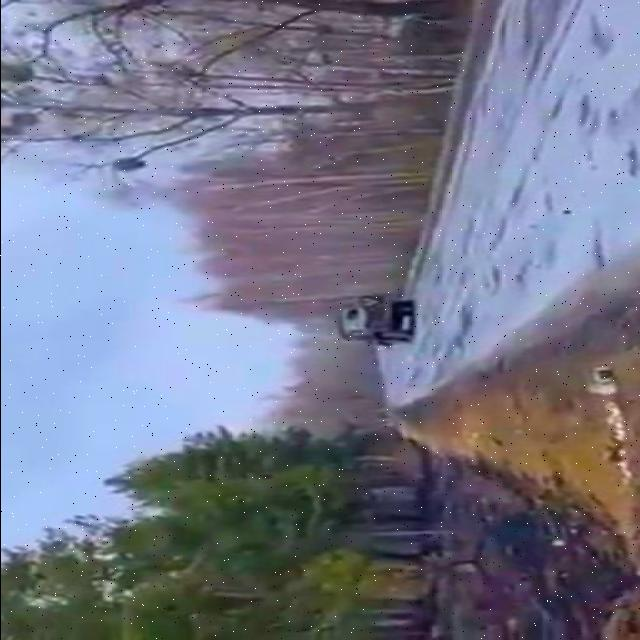TRUCK: (331, 294, 413, 350)
